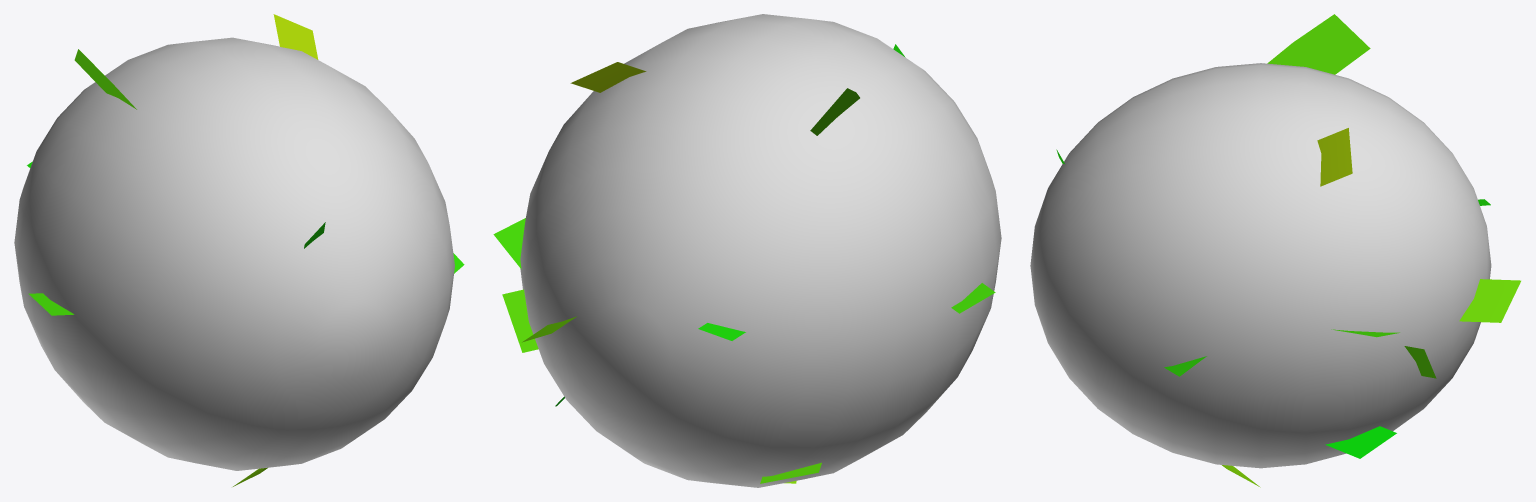
File: HDN_ST_EnergyBall.fbx
3 views of the same model, side by side, from view 1: azimuth 30°, elevation 25°; view 2: azimuth 150°, elevation 25°; view 3: azimuth 270°, elevation 25° (orthographic). The views are drawn at different scales.
Parts seen in each view (by area): view 1: Grea, Thunder; view 2: Grea, Thunder; view 3: Grea, Thunder.
Boxes of the visible parts, bbox=[...] form: Grea: bbox=[14, 37, 454, 470]; Thunder: bbox=[27, 14, 464, 486]; Grea: bbox=[520, 14, 1001, 487]; Thunder: bbox=[493, 44, 995, 483]; Grea: bbox=[1030, 63, 1491, 468]; Thunder: bbox=[1056, 14, 1520, 487].
Size of the model in its own units: 126 by 132 by 145.
